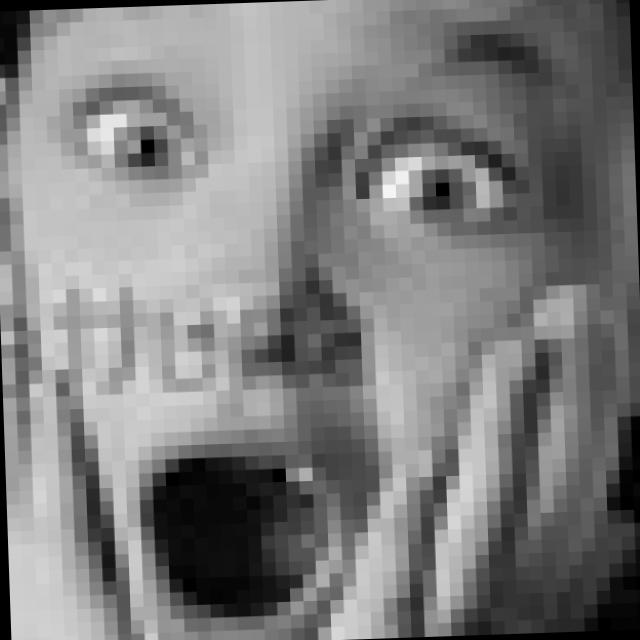surprise: (47, 20, 570, 640)
